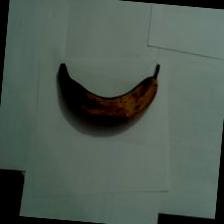Banana Rotten: (46, 54, 176, 148)
